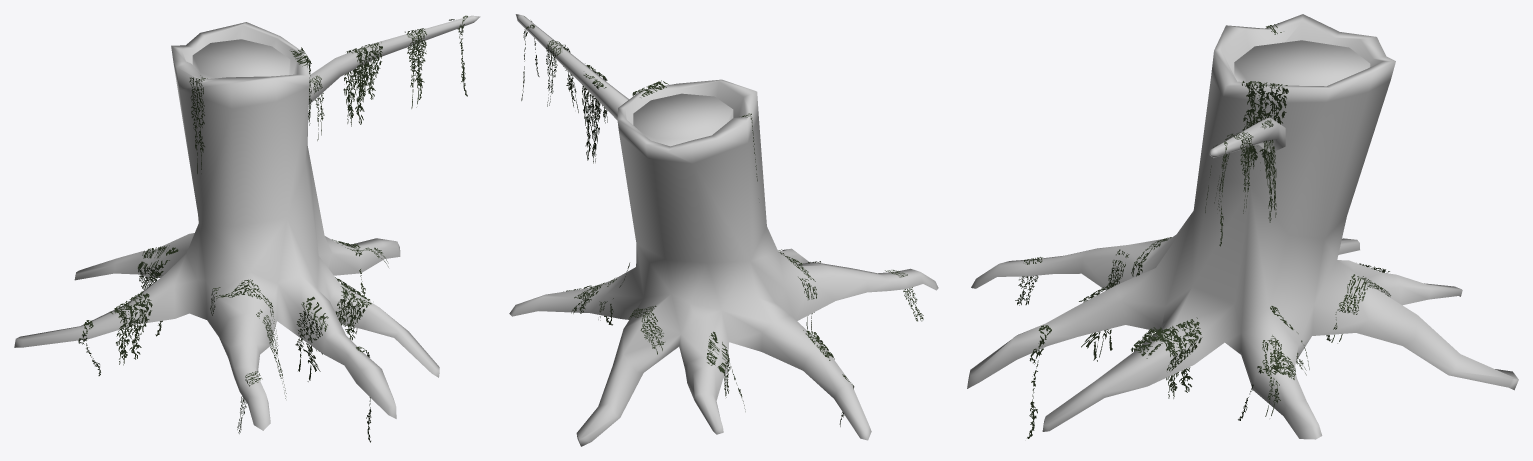
File: Model_Tree_08.fbx
The picture shows the model from 3 angles, left to right: view 1: azimuth 30°, elevation 25°; view 2: azimuth 150°, elevation 25°; view 3: azimuth 270°, elevation 25°; orthographic projection. The views are drawn at different scales.
Visible parts, largest first — view 1: Tree_08; view 2: Tree_08; view 3: Tree_08.
Boxes of the visible parts, x1,y1,x2,y2 form: Tree_08: (14, 15, 480, 442); Tree_08: (509, 14, 938, 446); Tree_08: (967, 14, 1518, 439).
Bounding box in the file's own units: 423 × 330 × 411.
